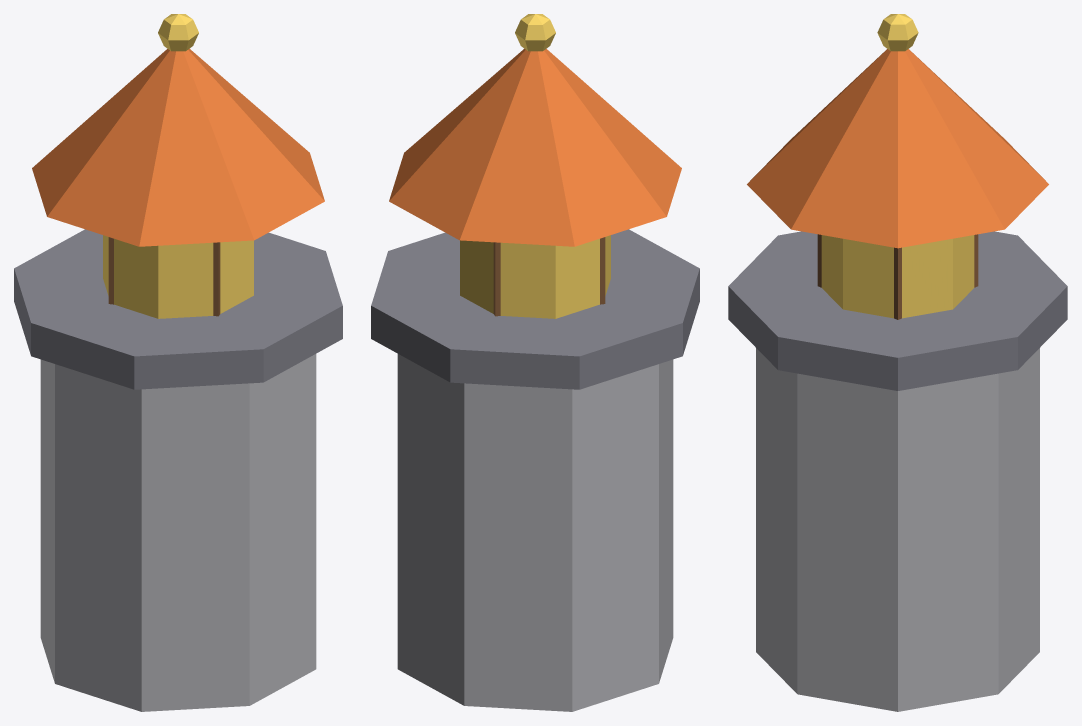
File: tower_bst.fbx
3 views of the same model, side by side, from view 1: azimuth 30°, elevation 25°; view 2: azimuth 150°, elevation 25°; view 3: azimuth 270°, elevation 25° (orthographic).
Parts seen in each view (by area): view 1: Tower; view 2: Tower; view 3: Tower.
Boxes of the visible parts, <box> form: Tower: <box>14,14,342,711</box>; Tower: <box>371,14,699,711</box>; Tower: <box>728,14,1067,711</box>.
Bounding box in the file's own units: 1.48 × 3.07 × 1.48.
Materials: 1 (1 with a texture image).
